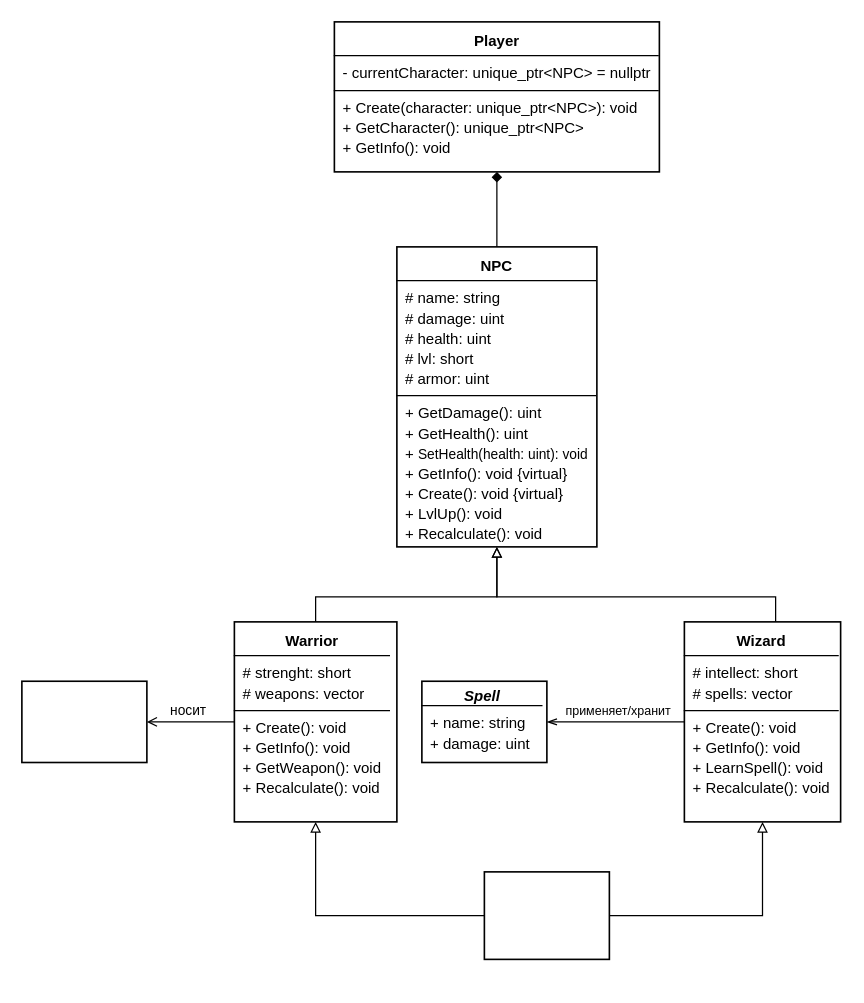
Some shapes in this 864 by 1003 pixel diagram are drawn without their labels. The shapes that lost their labels are listed below. From the top down, each one's box as (x1, y1, x2, y2) in pixels, then its label:
(20, 680, 147, 763): Weapon + name: string + damage: uint
(483, 870, 610, 960): Paladin + Create(): void + GetInfo(): void
